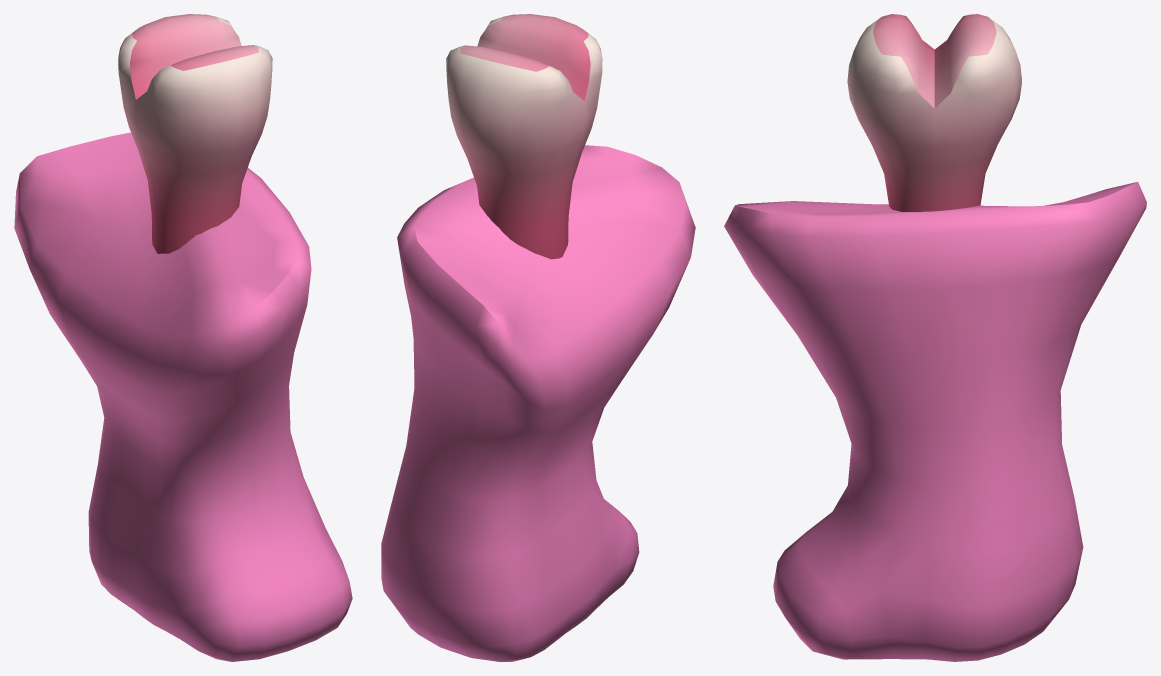
Rendered from bunny_leg.fbx.
3 views of the same model, side by side, from view 1: azimuth 30°, elevation 25°; view 2: azimuth 150°, elevation 25°; view 3: azimuth 270°, elevation 25° (orthographic). The views are drawn at different scales.
Parts seen in each view (by area): view 1: Leg01; view 2: Leg01; view 3: Leg01.
Boxes of the visible parts, x1,y1,x2,y2 form: Leg01: (14, 14, 352, 661); Leg01: (381, 14, 695, 661); Leg01: (724, 14, 1146, 661).
Size of the model in its own units: 0.0535 by 0.1387 by 0.0898.
Materials: 1 (1 with a texture image).
